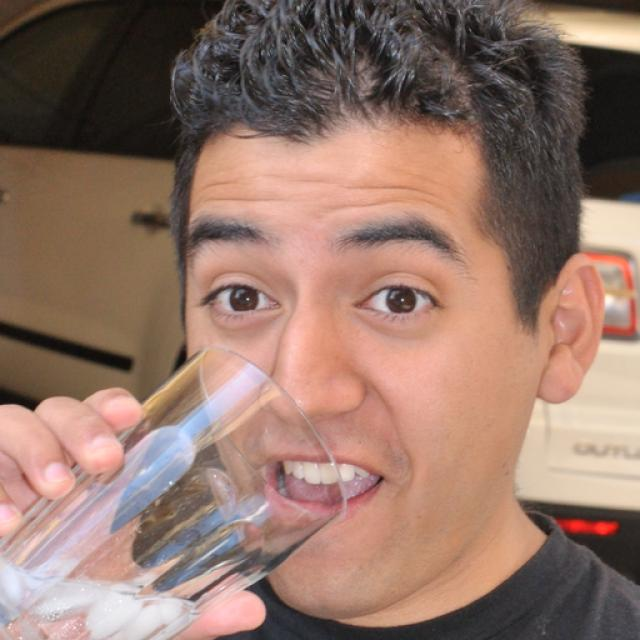Wrinkle: (349, 179, 441, 204), (197, 188, 299, 207), (334, 190, 404, 217)
